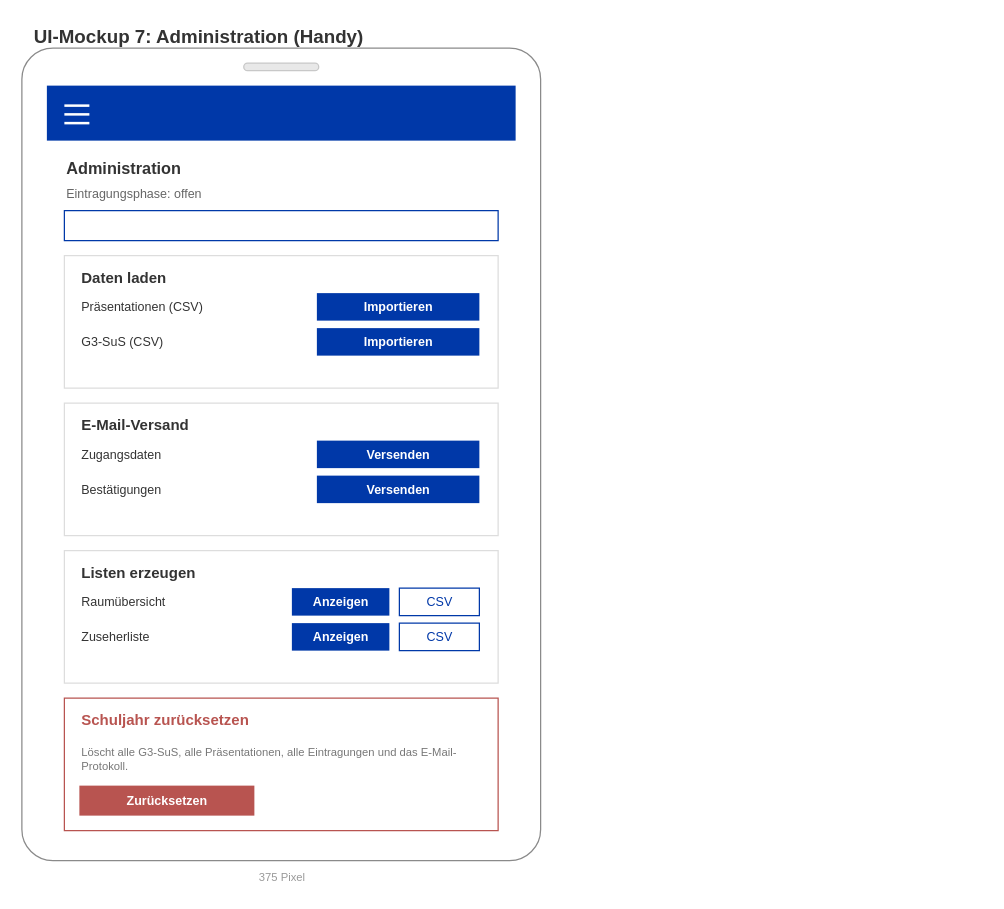
Some shapes in this 1004 by 909 pixel diagram are drawn without their labels. Each missing label, with the centre of its shape:
"Eintragungsphase schliessen" belongs at point 280,225.
"Zusehendenverwaltung" belongs at point 280,112.
